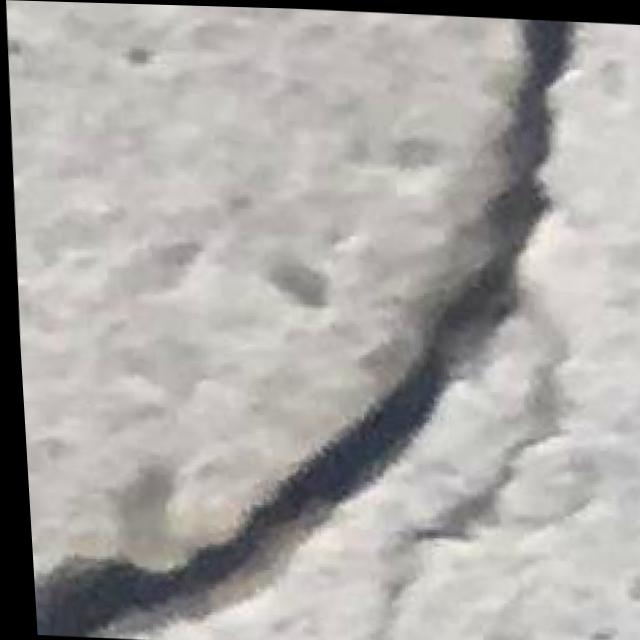Crack: (0, 0, 616, 640)
